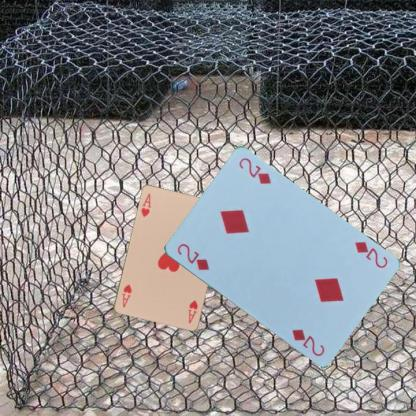2d: (352, 238, 389, 270), (174, 241, 210, 272)
Ah: (138, 191, 152, 218), (185, 298, 199, 324)
